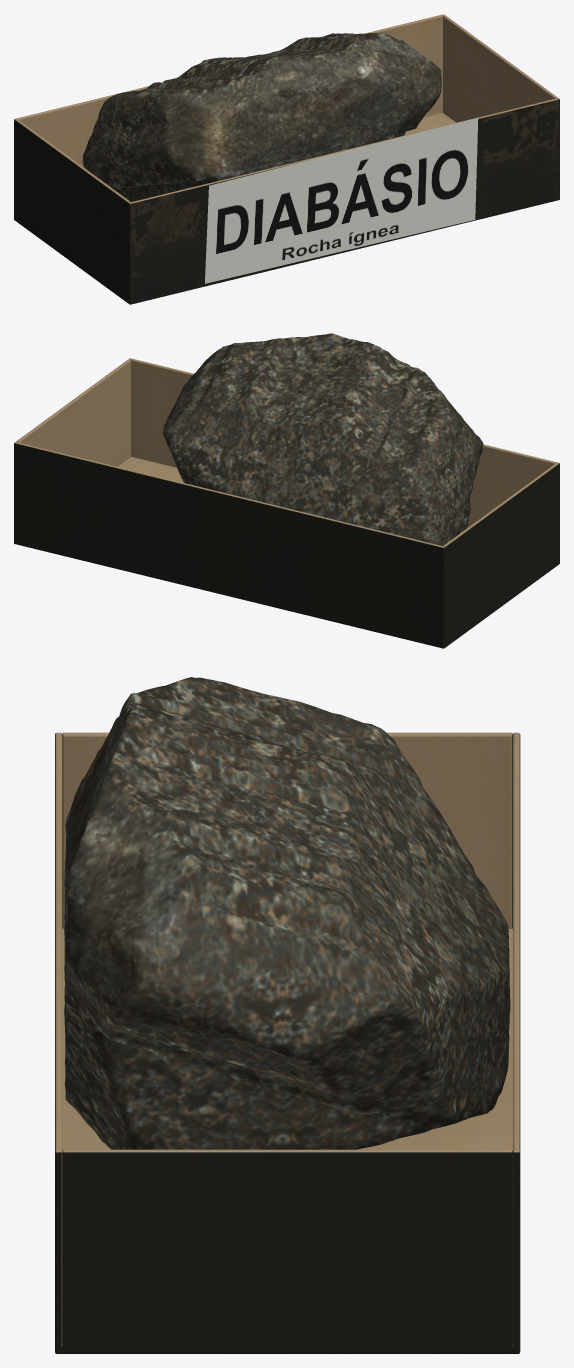
The model's file is rocha_02_11_diabasio.glb.
3 renders of one model, top to bottom at view 1: azimuth 30°, elevation 25°; view 2: azimuth 150°, elevation 25°; view 3: azimuth 270°, elevation 25°, orthographic. The views are drawn at different scales.
Visible parts, largest first — view 1: Fragmento_01_mo11, Etiqueta_mo11, Bandeja_Frente_mo11, Bandeja_Esquerda_mo11, Bandeja_Direita_mo11, Bandeja_Fundo_mo11, Bandeja_Base_mo11; view 2: Fragmento_01_mo11, Bandeja_Fundo_mo11, Bandeja_Esquerda_mo11, Bandeja_Frente_mo11, Bandeja_Direita_mo11, Bandeja_Base_mo11; view 3: Fragmento_01_mo11, Bandeja_Direita_mo11, Bandeja_Esquerda_mo11, Bandeja_Base_mo11, Bandeja_Fundo_mo11, Bandeja_Frente_mo11.
Part boxes in pixels (box(x1,y1,x2,y2)): Fragmento_01_mo11: box(82, 32, 441, 201); Etiqueta_mo11: box(205, 117, 478, 283); Bandeja_Frente_mo11: box(128, 98, 559, 304); Bandeja_Esquerda_mo11: box(15, 120, 130, 300); Bandeja_Direita_mo11: box(443, 15, 557, 122); Bandeja_Fundo_mo11: box(14, 14, 445, 220); Bandeja_Base_mo11: box(14, 113, 559, 304); Fragmento_01_mo11: box(163, 333, 483, 545); Bandeja_Fundo_mo11: box(14, 442, 445, 648); Bandeja_Esquerda_mo11: box(443, 464, 558, 644); Bandeja_Frente_mo11: box(128, 358, 559, 561); Bandeja_Direita_mo11: box(16, 359, 130, 466); Bandeja_Base_mo11: box(15, 456, 559, 648); Fragmento_01_mo11: box(64, 677, 510, 1149); Bandeja_Direita_mo11: box(62, 1149, 512, 1353); Bandeja_Esquerda_mo11: box(62, 732, 512, 928); Bandeja_Base_mo11: box(55, 928, 520, 1353); Bandeja_Fundo_mo11: box(513, 732, 520, 1352); Bandeja_Frente_mo11: box(55, 732, 62, 1353).
Size of the model in its own units: 0.2055 by 0.0879 by 0.0964.
Materials: 3 (3 with a texture image).
